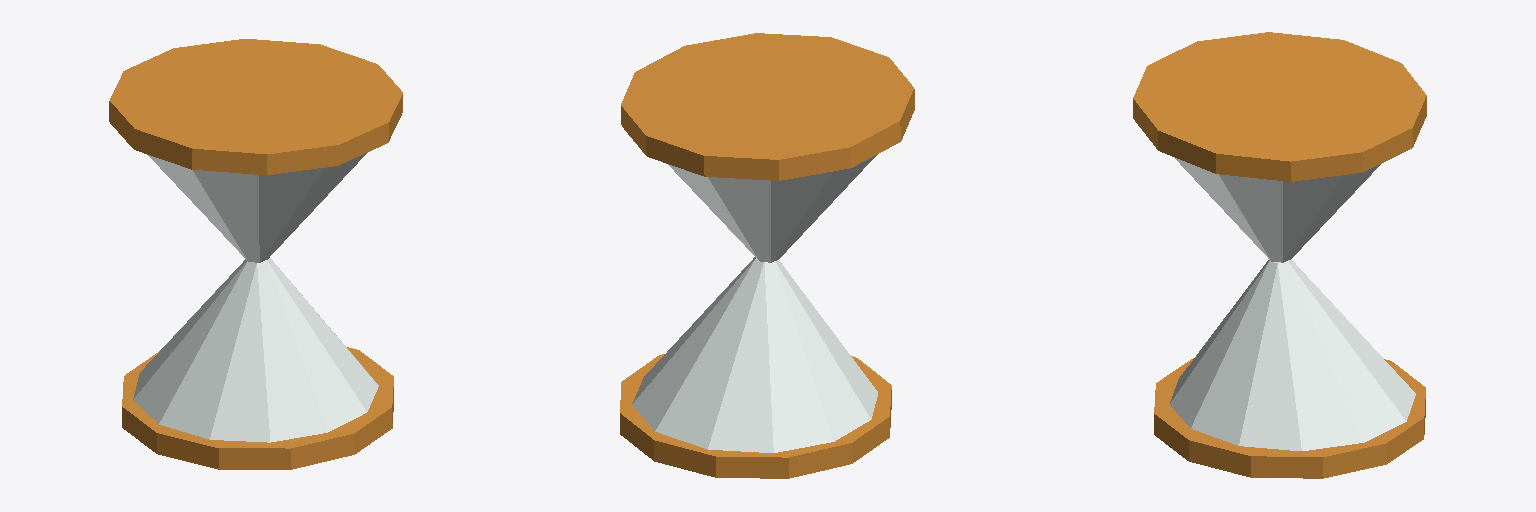
File: Hourglass.obj
3 views of the same model, side by side, from view 1: azimuth 30°, elevation 25°; view 2: azimuth 150°, elevation 25°; view 3: azimuth 270°, elevation 25° (orthographic).
Visible parts, largest first — view 1: group[number redacted], group[number redacted], group[number redacted], group[number redacted]; view 2: group[number redacted], group[number redacted], group[number redacted], group[number redacted]; view 3: group[number redacted], group[number redacted], group[number redacted], group[number redacted].
Part boxes in pixels (x1,y1,x2,y2): group[number redacted]: (109,39,402,174); group[number redacted]: (133,258,378,442); group[number redacted]: (122,347,393,469); group[number redacted]: (148,153,366,262); group[number redacted]: (621,33,914,180); group[number redacted]: (632,257,877,452); group[number redacted]: (620,354,891,478); group[number redacted]: (668,154,877,262); group[number redacted]: (1133,32,1426,181); group[number redacted]: (1169,259,1415,450); group[number redacted]: (1154,358,1425,478); group[number redacted]: (1174,157,1380,262).
Bounding box in the file's own units: 0.4308 × 0.5272 × 0.4294.